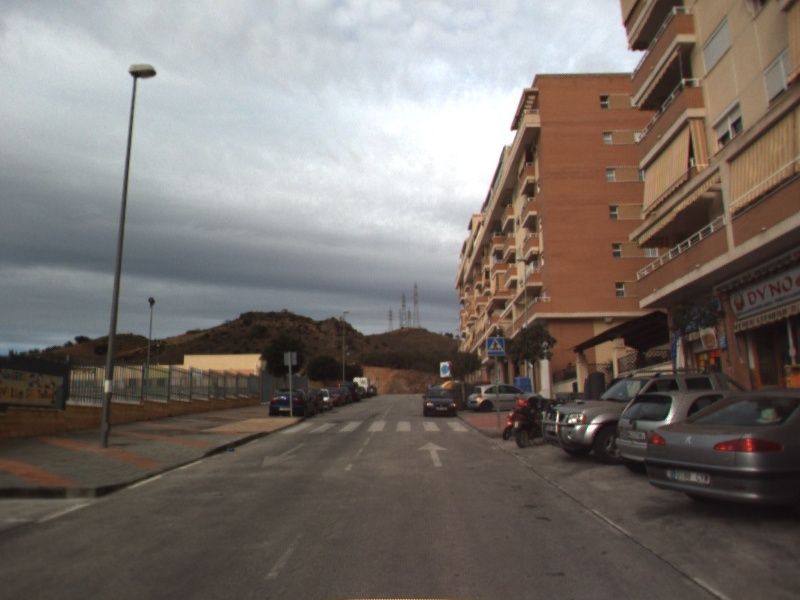STRAIGHT: (416, 439, 450, 469)
